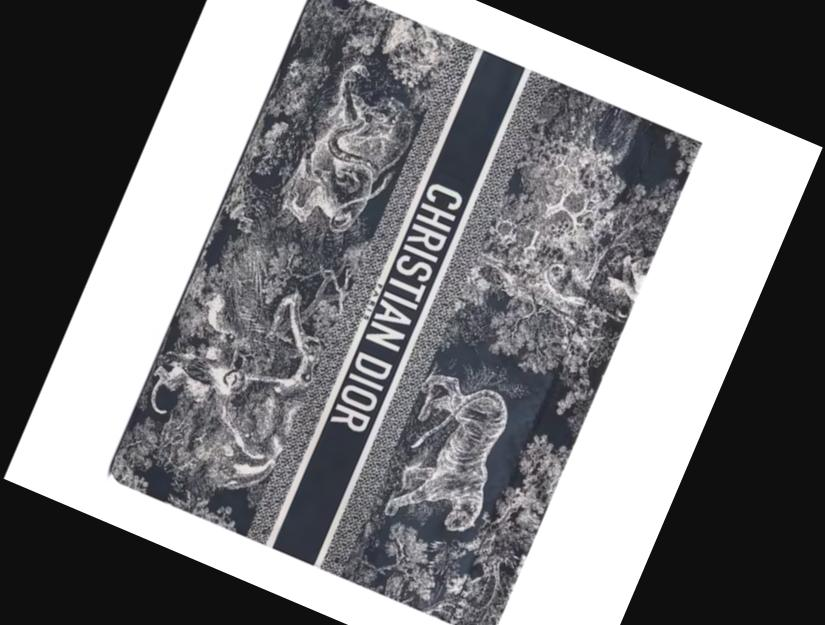DIOR: (307, 156, 490, 460)
